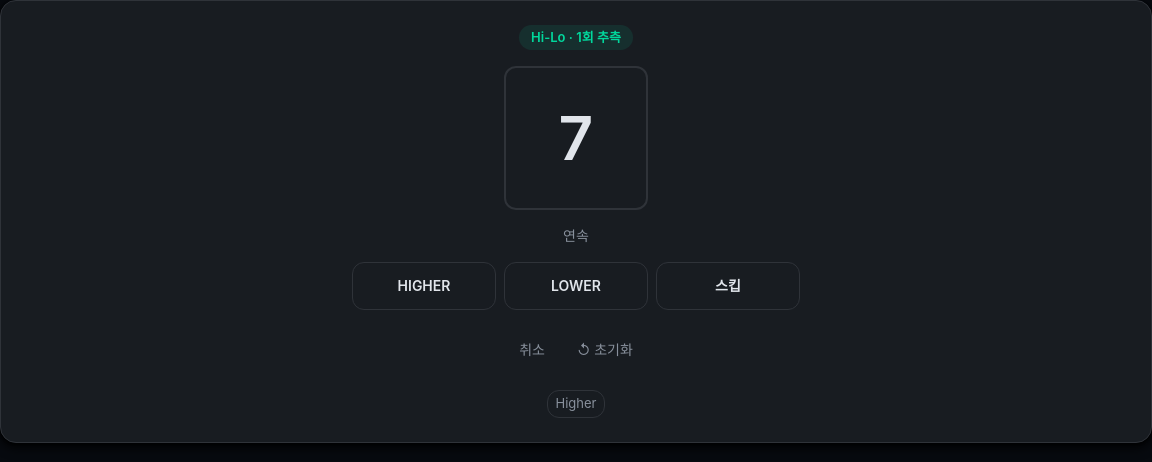
Test: Casino games batch B stages (p10-games-batch-b) › hilo flips cards from RPC and shows streak queue
Check: the list with test id "casino-hilo-guess-queue" is shown, box [546,390,606,418]
Click the button with test id "casino-hilo-guess-lower" at (576, 286), box [504,262,648,310]
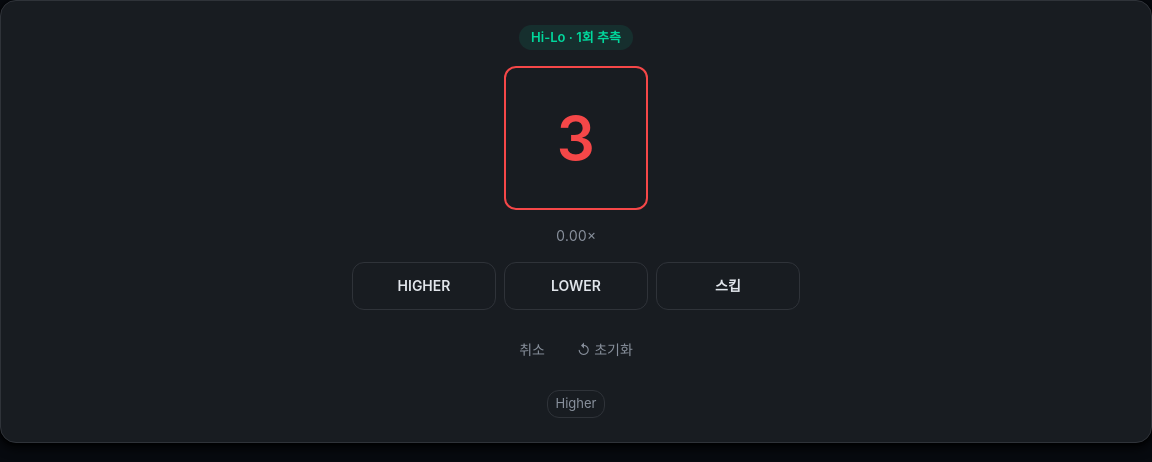
Check: the text with test id "casino-hilo-card-hero" reads "3", box [557,102,595,174]
